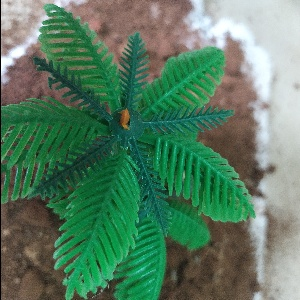plant: (2, 6, 259, 300)
